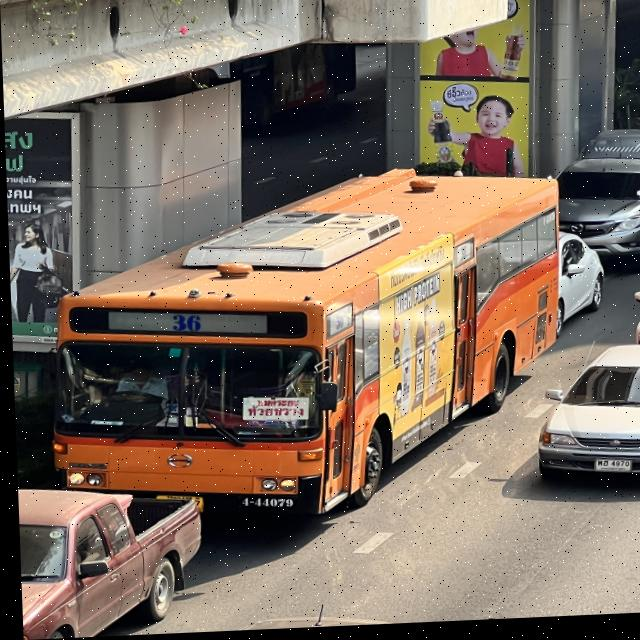BMTA-bus: (48, 172, 560, 521)
Bus Line Number: (158, 309, 210, 341)
Bus Side Number: (234, 494, 295, 515)
Destination Sign: (240, 397, 308, 426)
